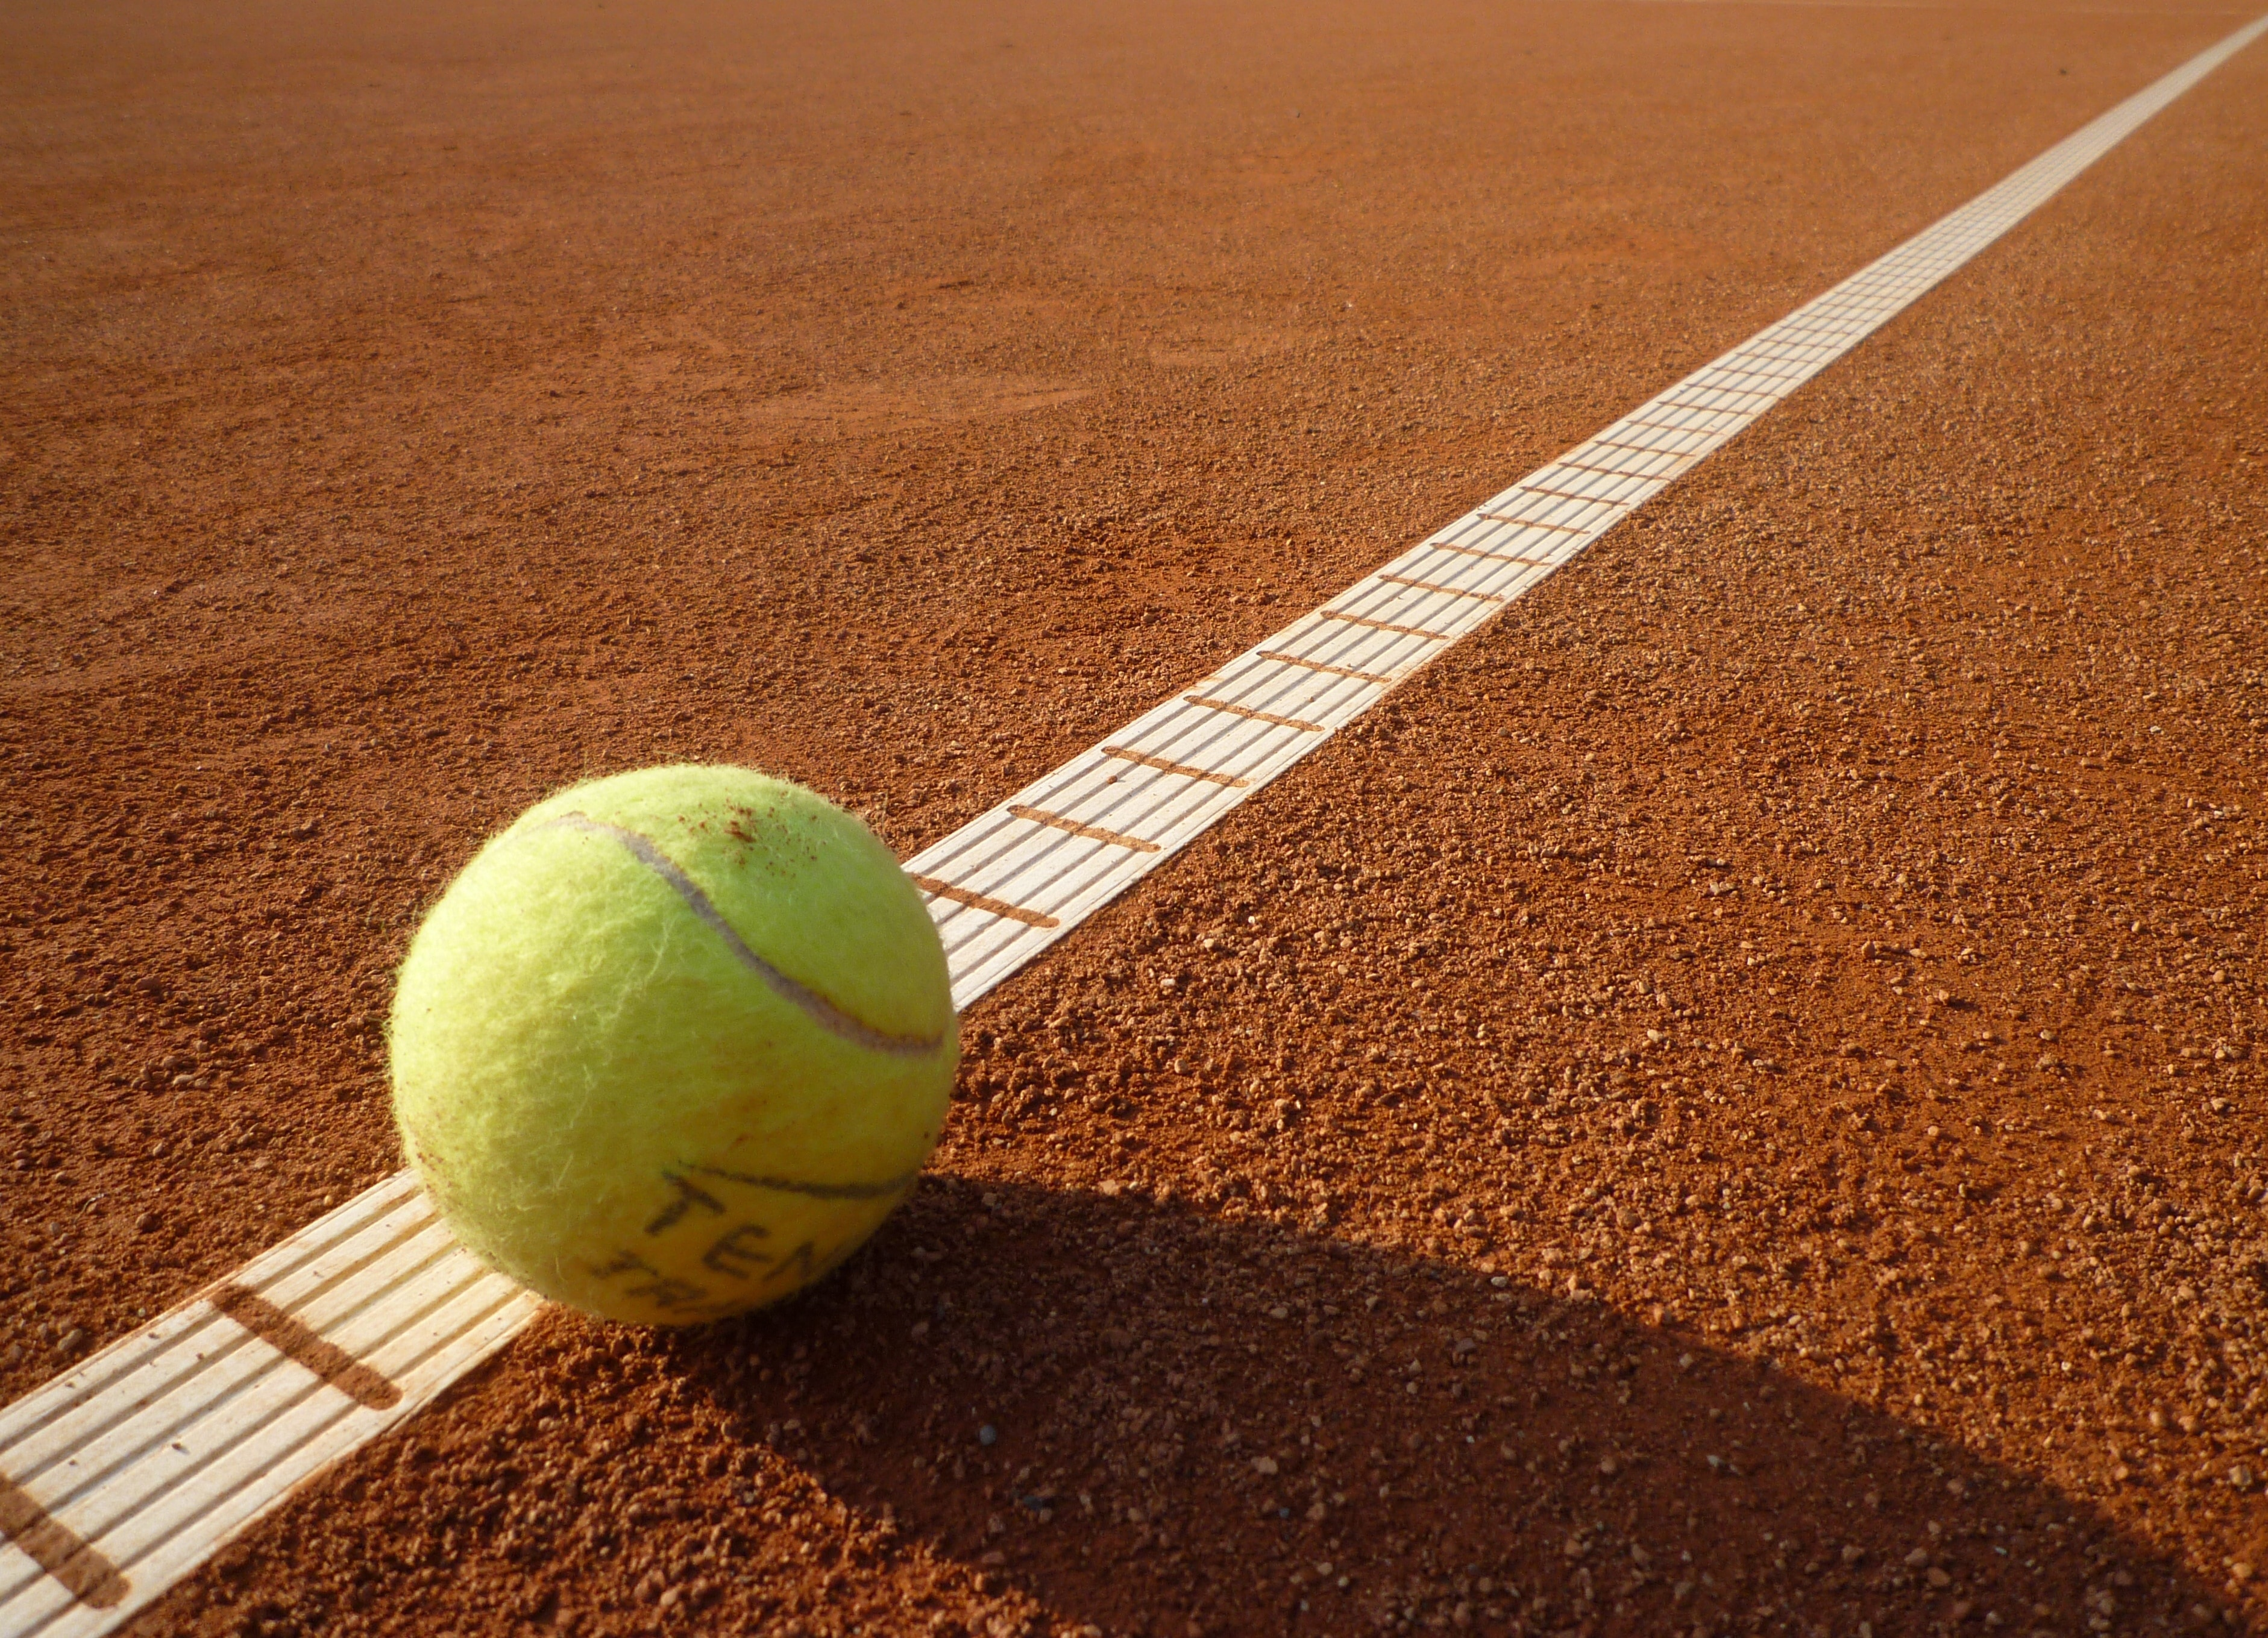tennis_ball: (384, 764, 967, 1326)
